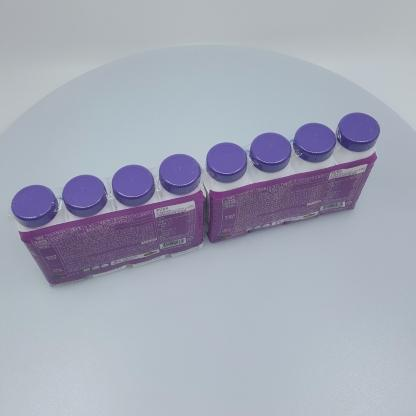-------------400ML: (5, 154, 206, 287), (200, 112, 381, 243)
